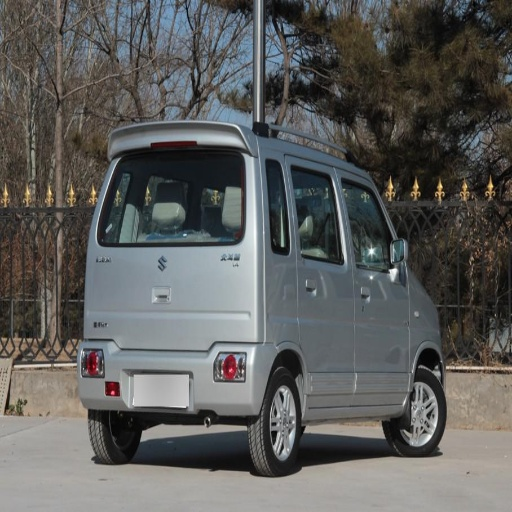back_bumper: (78, 341, 268, 413)
back_right_door: (286, 157, 355, 407)
trunk: (84, 246, 275, 370)
